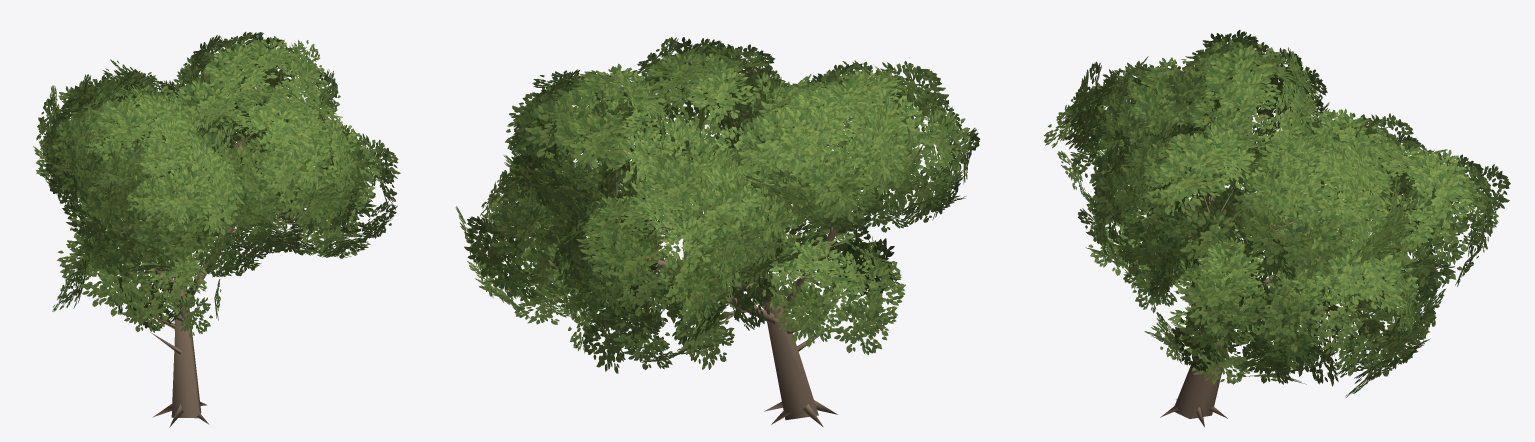
Rendered from eco_tree_deciduous_a_LOD1.glb.
3 views of the same model, side by side, from view 1: azimuth 30°, elevation 25°; view 2: azimuth 150°, elevation 25°; view 3: azimuth 270°, elevation 25° (orthographic). The views are drawn at different scales.
Visible parts, largest first — view 1: eco_tree_deciduous_a_LOD1; view 2: eco_tree_deciduous_a_LOD1; view 3: eco_tree_deciduous_a_LOD1.
Part boxes in pixels (left/top/right/bottom): eco_tree_deciduous_a_LOD1: left=33, top=32, right=400, bottom=427; eco_tree_deciduous_a_LOD1: left=455, top=37, right=980, bottom=427; eco_tree_deciduous_a_LOD1: left=1043, top=30, right=1510, bottom=427.
Bounding box in the file's own units: 7.36 × 6.22 × 7.49.
Materials: 2 (1 with a texture image).
